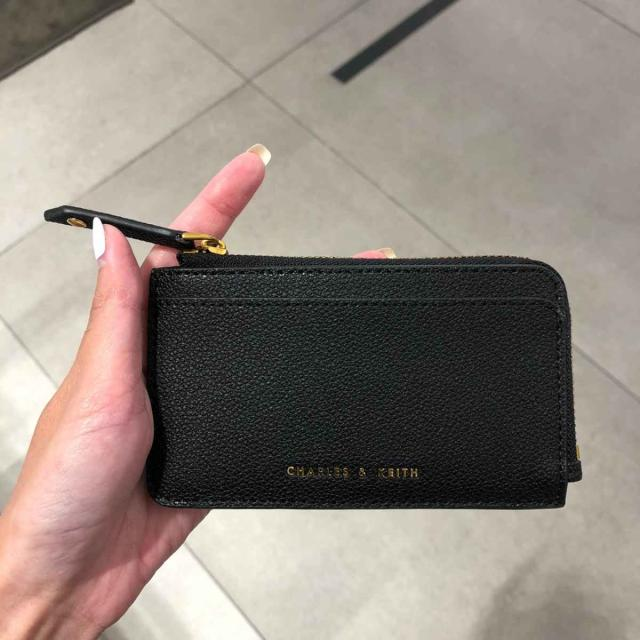Handbag: (136, 200, 599, 512)
